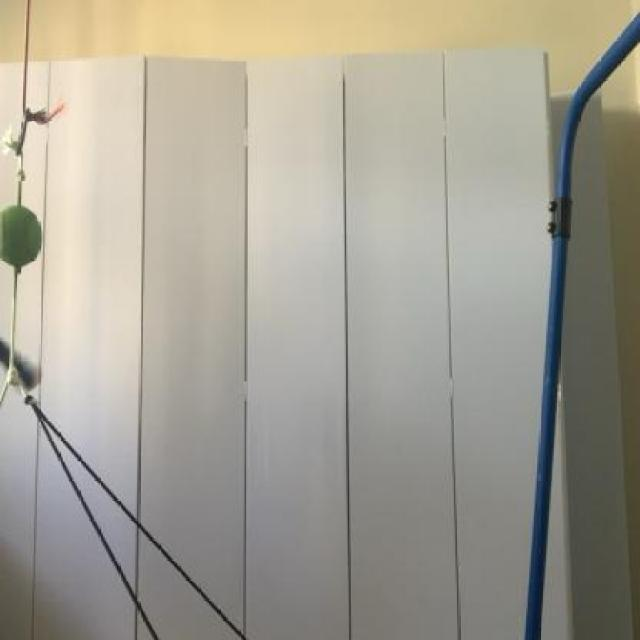baseball: (0, 195, 49, 292)
